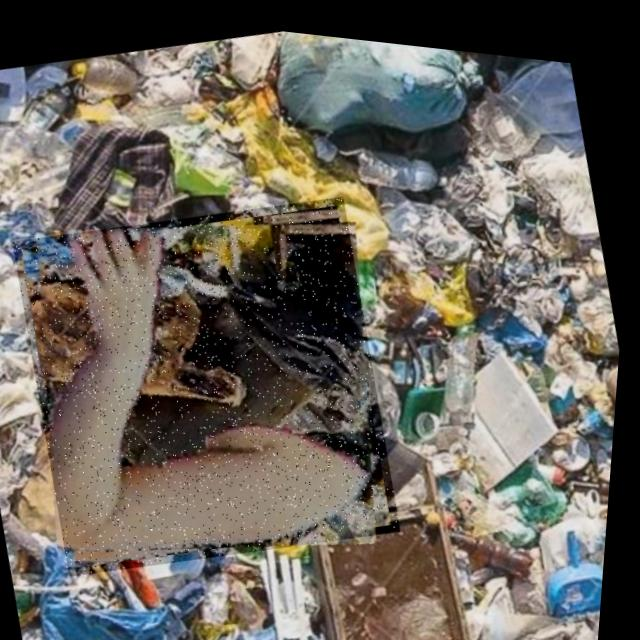Person in Rubble: (0, 159, 425, 602)
